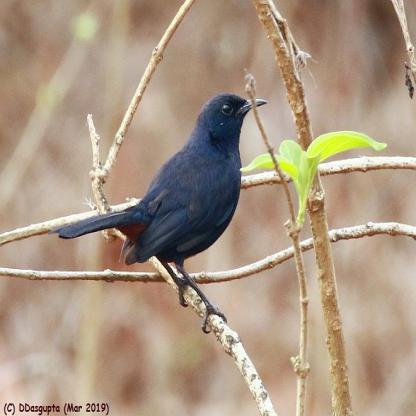Burung: (50, 92, 266, 333)
